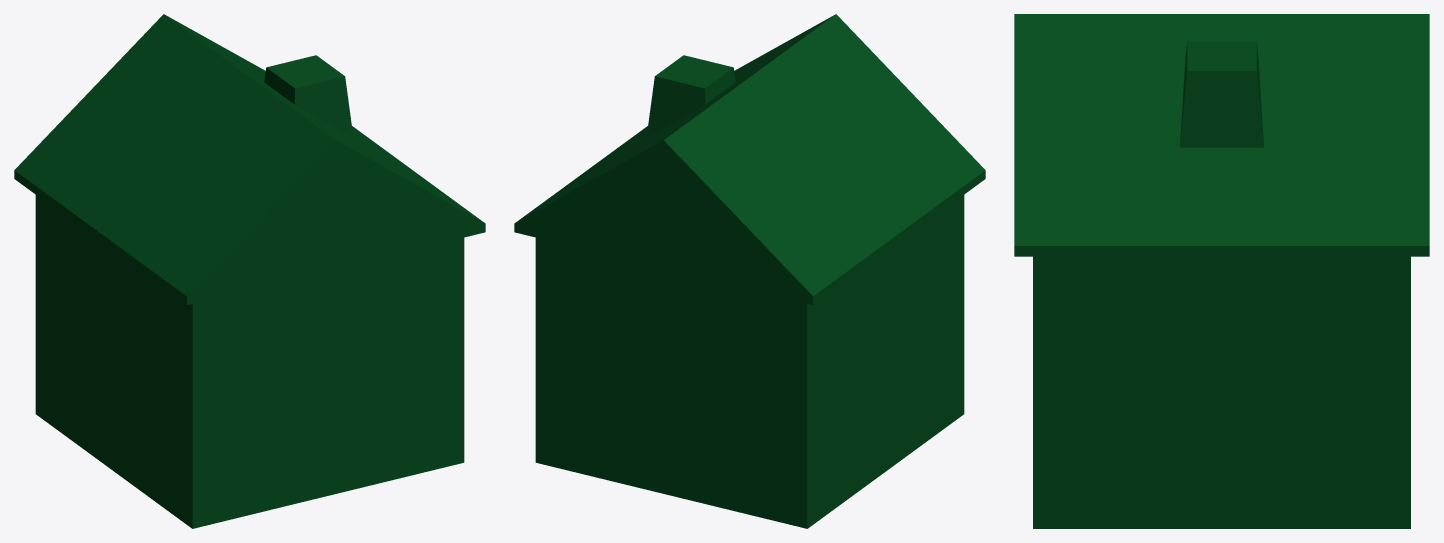
The model's file is Haus.obj.
3 renders of one model, left to right at view 1: azimuth 30°, elevation 25°; view 2: azimuth 150°, elevation 25°; view 3: azimuth 270°, elevation 25°, orthographic. The views are drawn at different scales.
Visible parts, largest first — view 1: kleinesHaus; view 2: kleinesHaus; view 3: kleinesHaus.
Part boxes in pixels (left/top/right/bottom): kleinesHaus: left=14, top=14, right=485, bottom=528; kleinesHaus: left=514, top=14, right=985, bottom=528; kleinesHaus: left=1014, top=14, right=1429, bottom=528.
Bounding box in the file's own units: 1.62 × 1.87 × 1.62.
2 materials, 2 textured.
